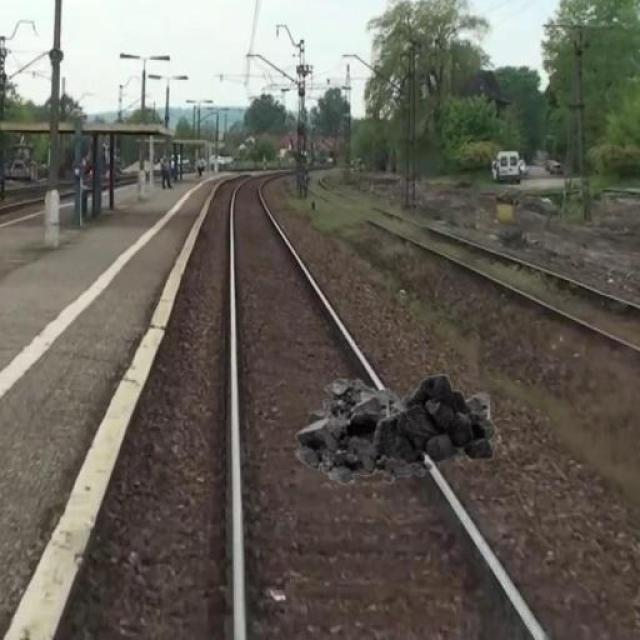Stone: (292, 364, 502, 484)
